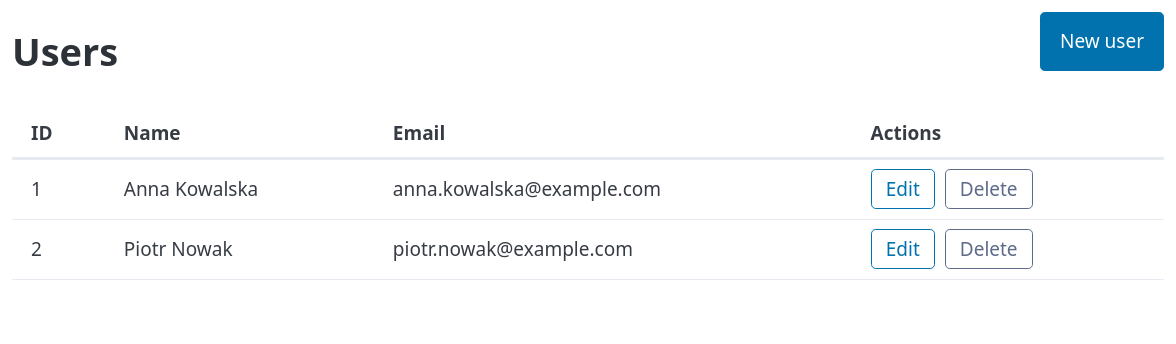
Test case: UsersPage › shows the conflict when the user still has open incidents
This screenshot has width=1176, height=344.
Check: the text "Anna Kowalska" is shown, box 105,158 -> 374,219
Step 1. Click the button with aria-label "Delete Anna Kowalska" → point(989, 189), box 944,169 -> 1033,209
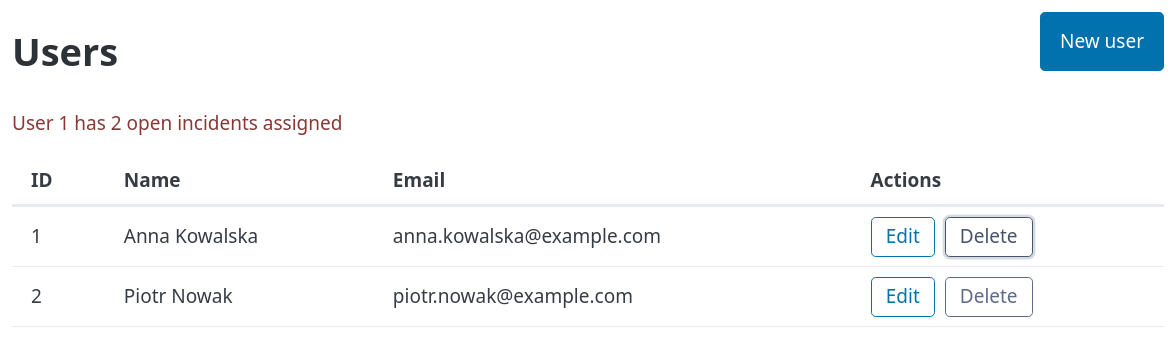
Check: the text "Anna Kowalska" is shown, box 105,206 -> 374,266
Check: the message reads "User 1 has 2 open incidents assigned", box 12,110 -> 342,136
